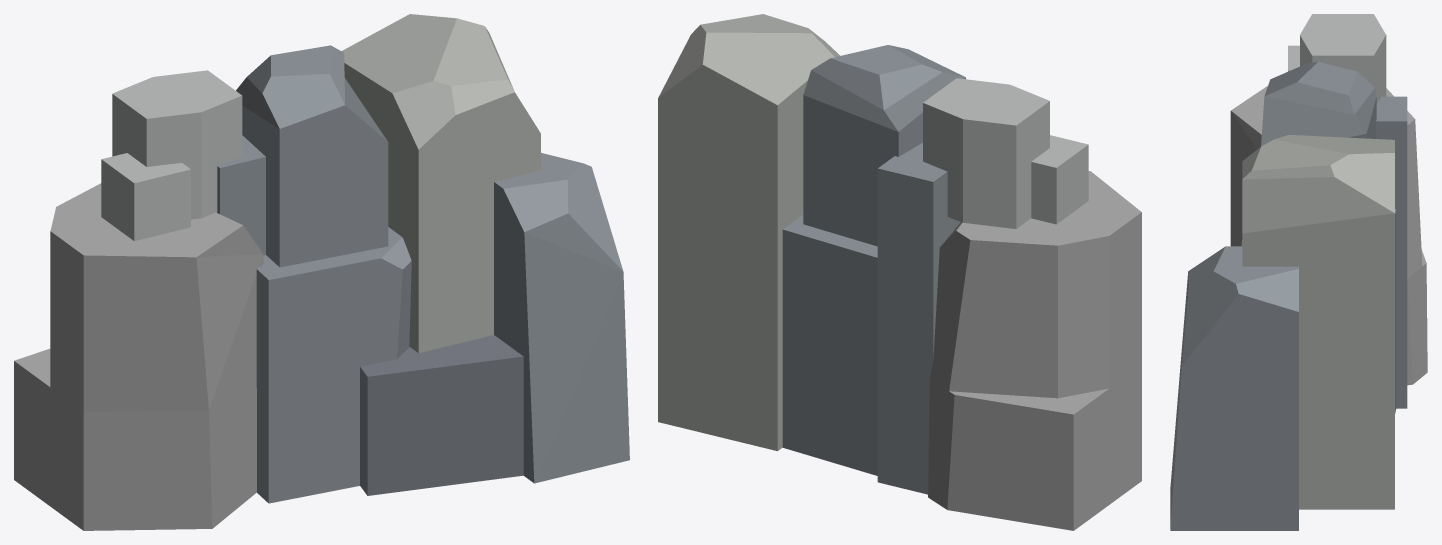
File: Rock_Wall_06.fbx
The picture shows the model from 3 angles, left to right: view 1: azimuth 30°, elevation 25°; view 2: azimuth 150°, elevation 25°; view 3: azimuth 270°, elevation 25°; orthographic projection. The views are drawn at different scales.
Parts seen in each view (by area): view 1: Rock_Wall_06; view 2: Rock_Wall_06; view 3: Rock_Wall_06.
Part boxes in pixels (x1,y1,x2,y2): Rock_Wall_06: (14, 14, 629, 530); Rock_Wall_06: (658, 14, 1141, 530); Rock_Wall_06: (1170, 14, 1427, 530).
Bounding box in the file's own units: 678 × 524 × 351.
